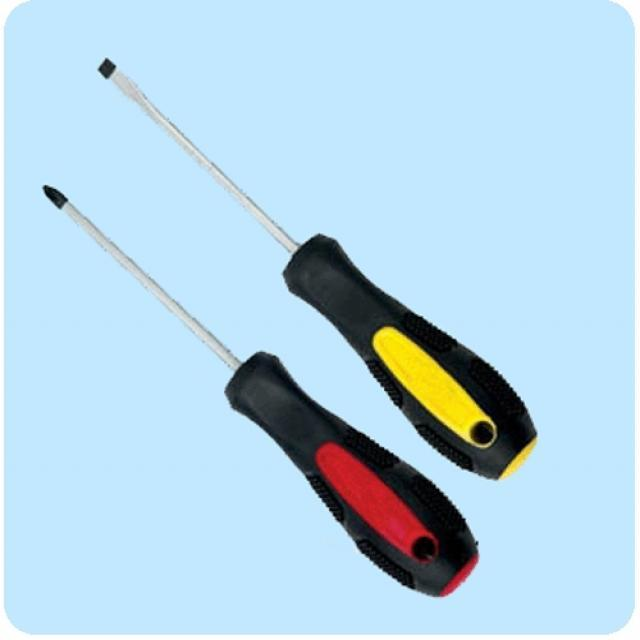screwdriver: (88, 48, 562, 488), (37, 182, 485, 616)
